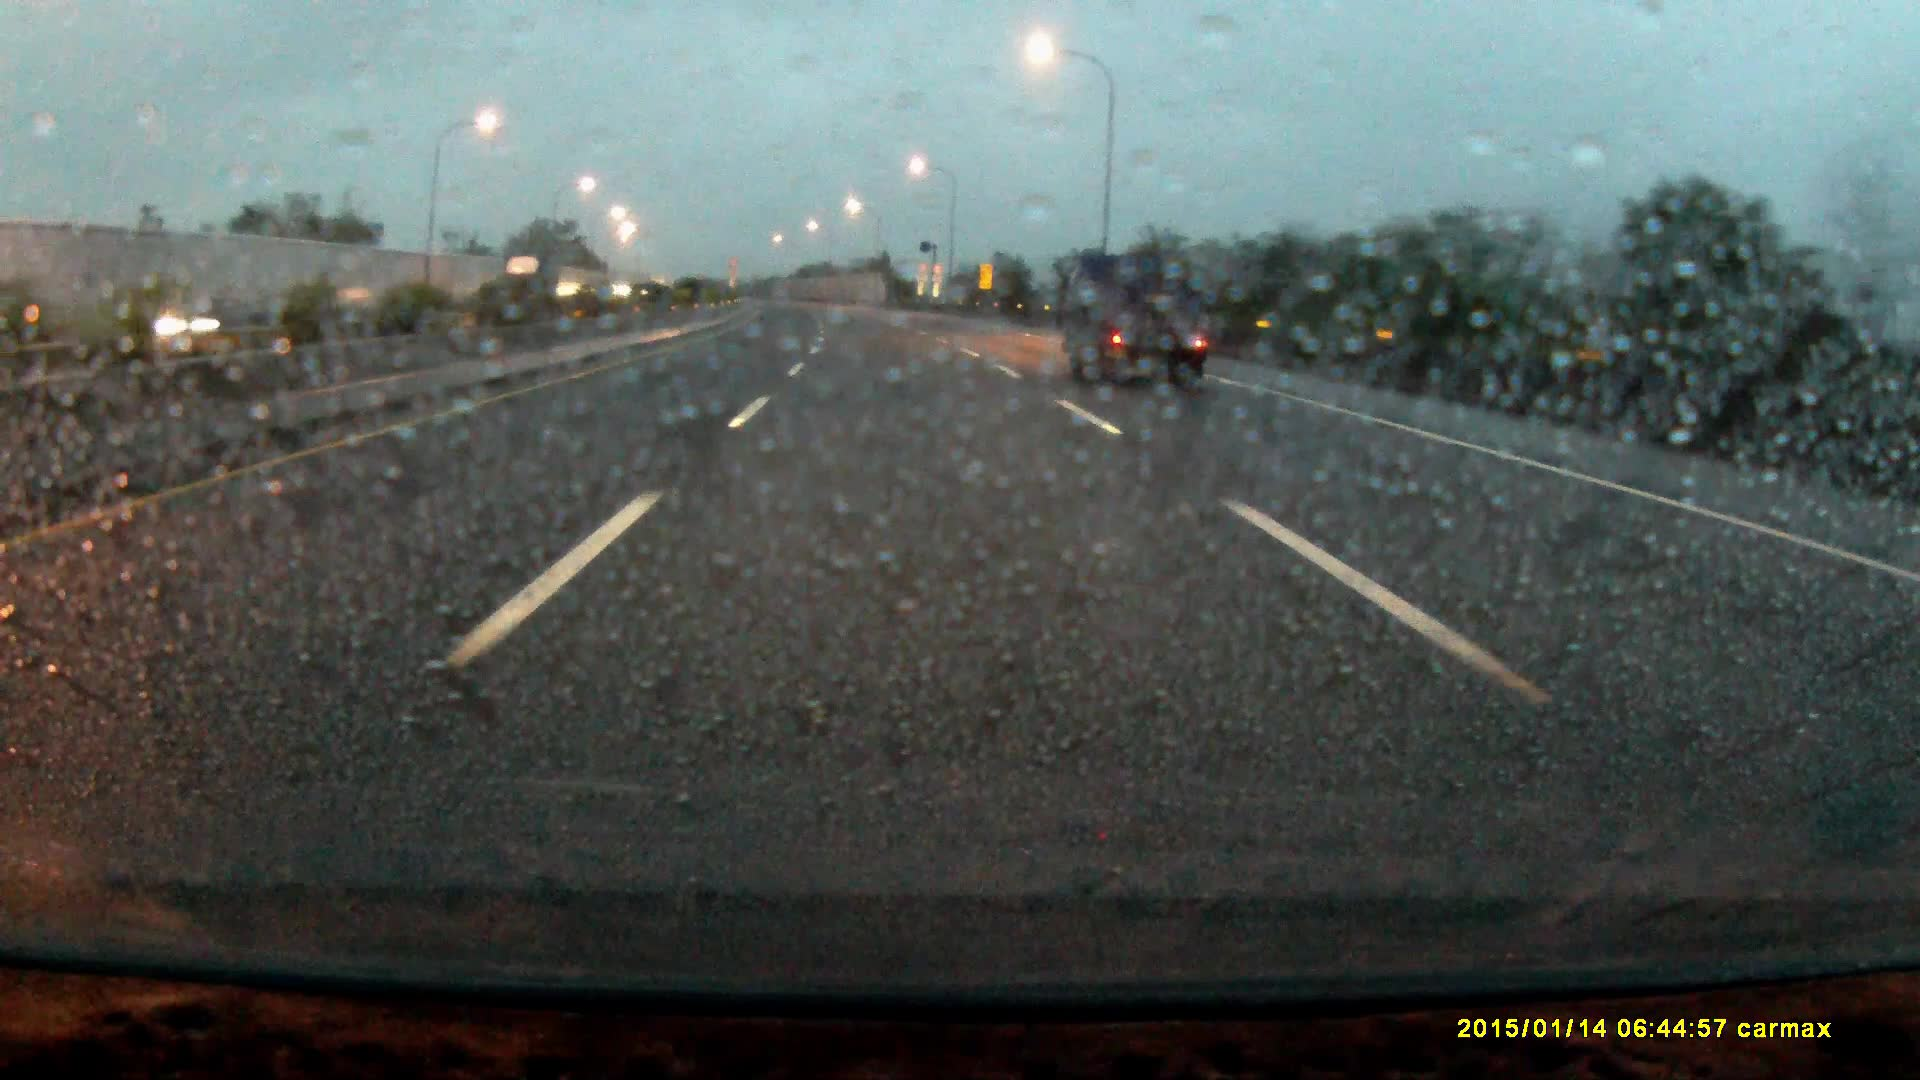vehicle: (1062, 252, 1208, 400), (502, 255, 560, 324)
